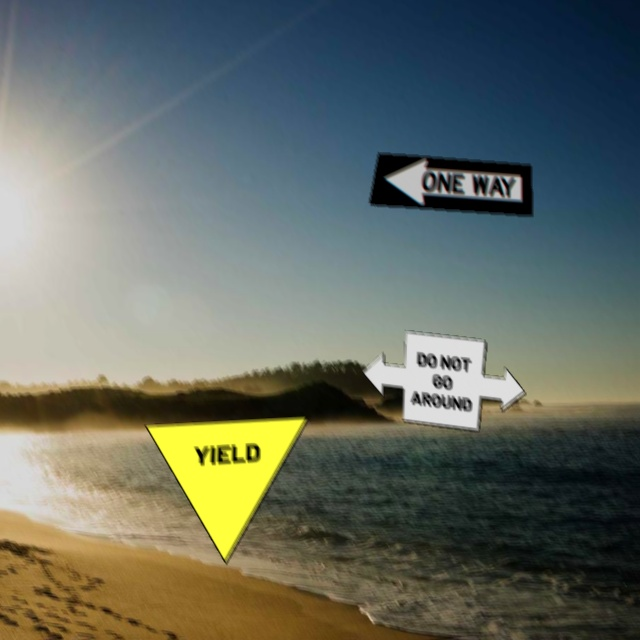DO_NOT_GO_AROUND: (364, 332, 528, 432)
ONE_WAY_ left: (371, 154, 535, 217)
YIELD: (147, 418, 311, 565)
